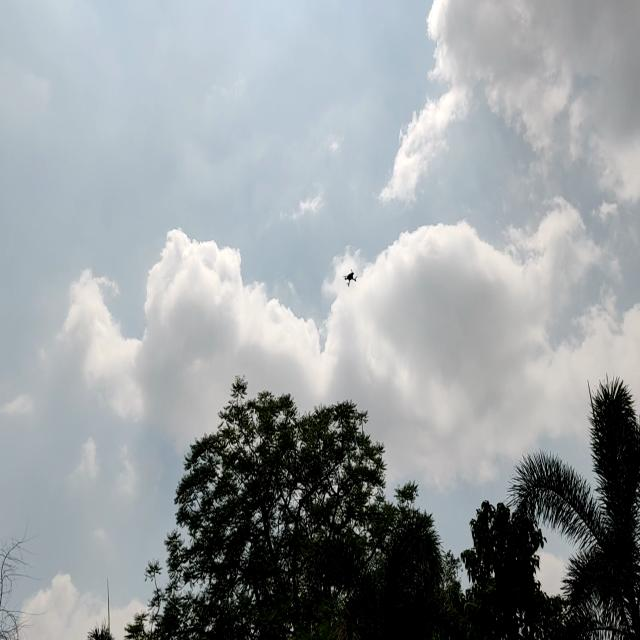drone: (338, 256, 362, 295)
